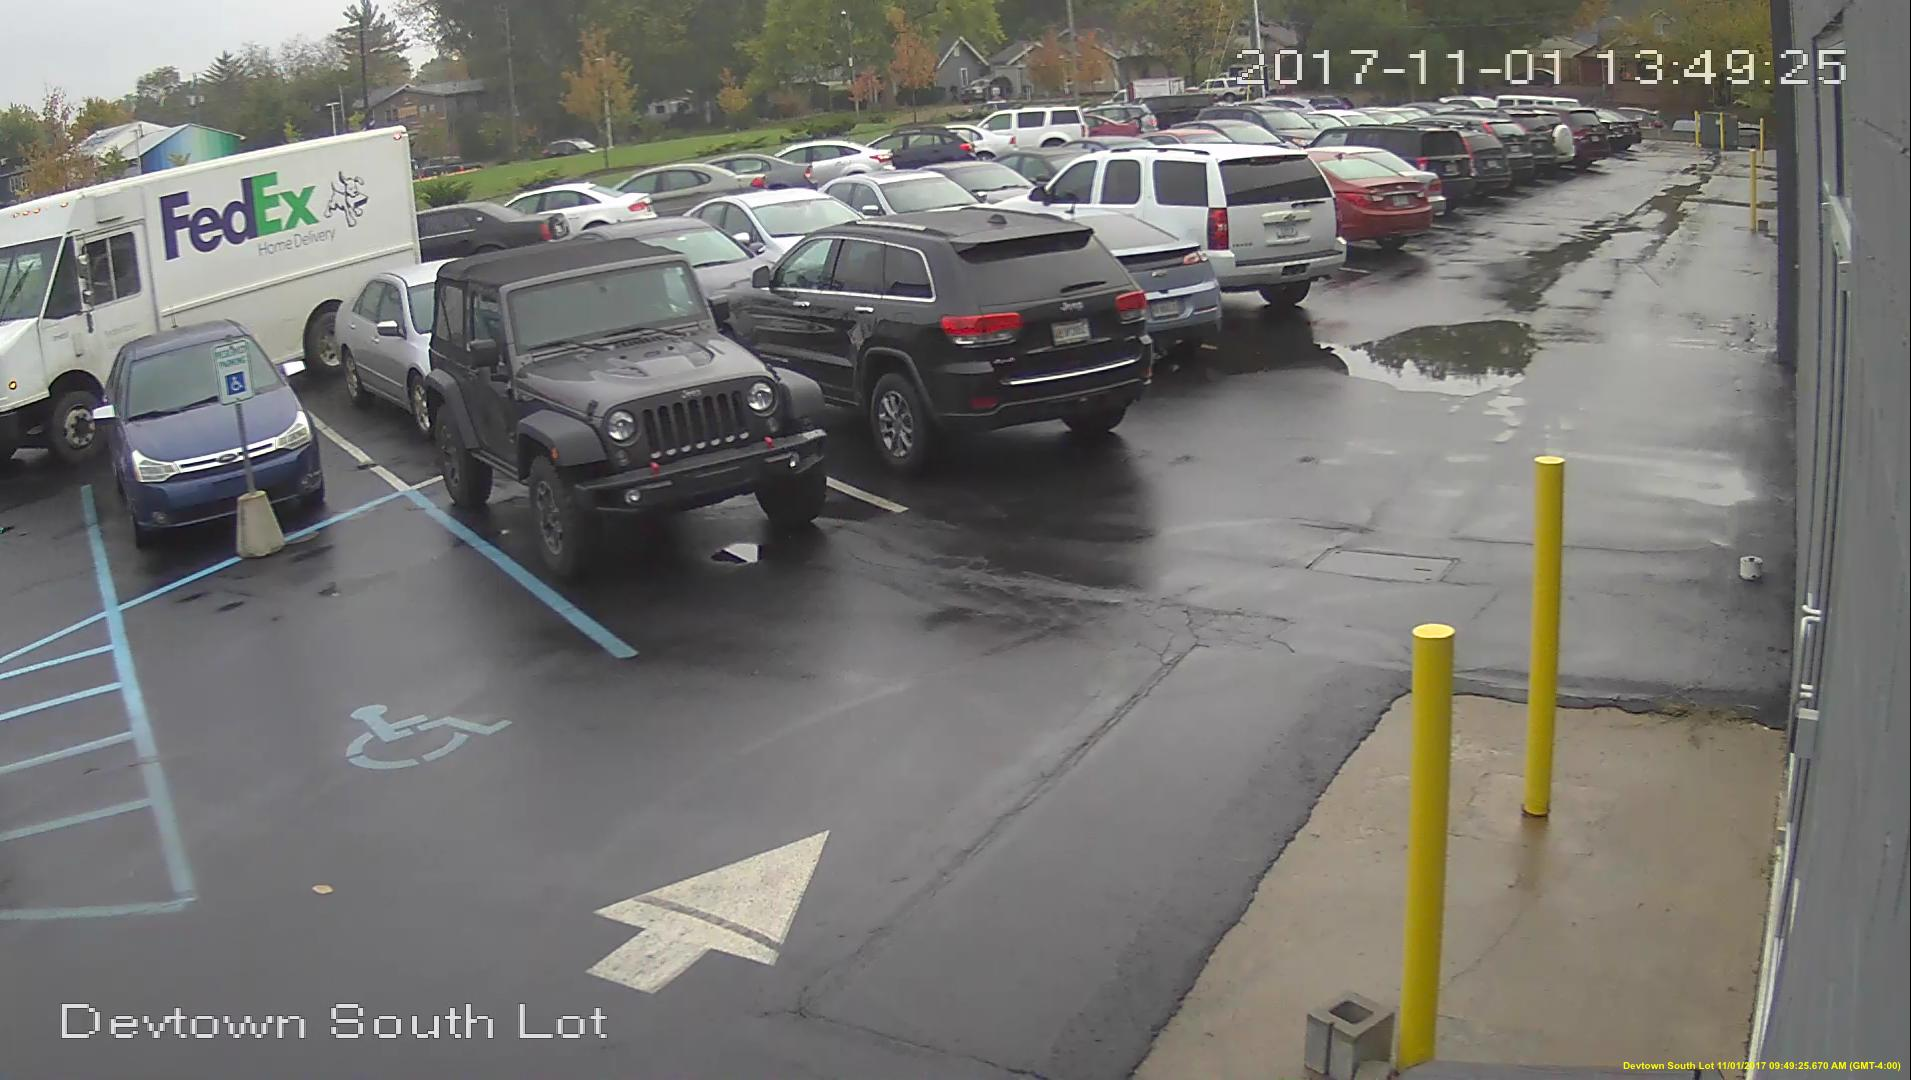fedex_truck: (1, 130, 406, 451)
